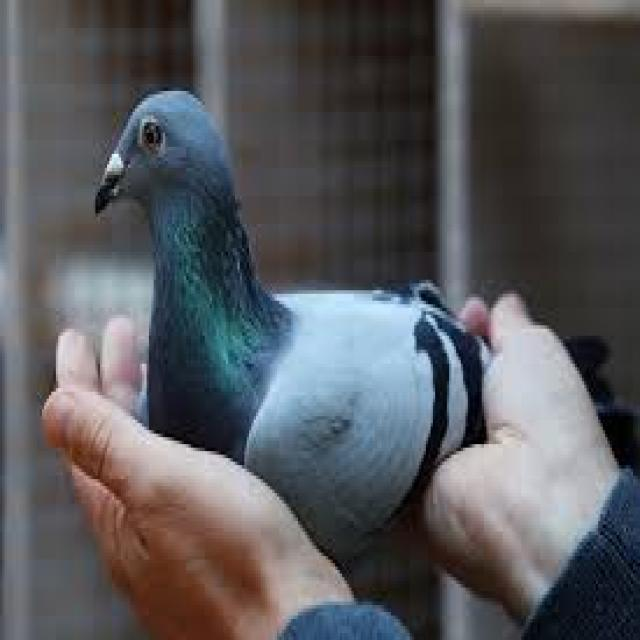pigeon: (86, 35, 568, 491)
